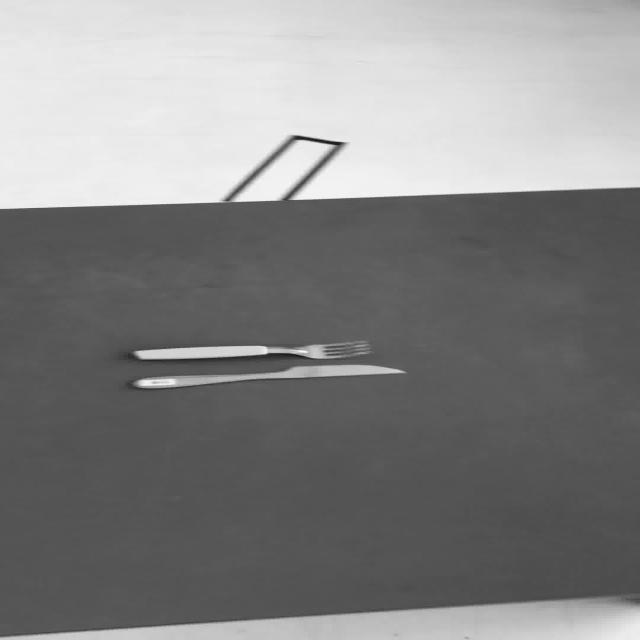fork: (130, 363, 406, 389), (130, 340, 370, 360)
knife fork: (129, 363, 407, 389), (130, 340, 371, 360)
